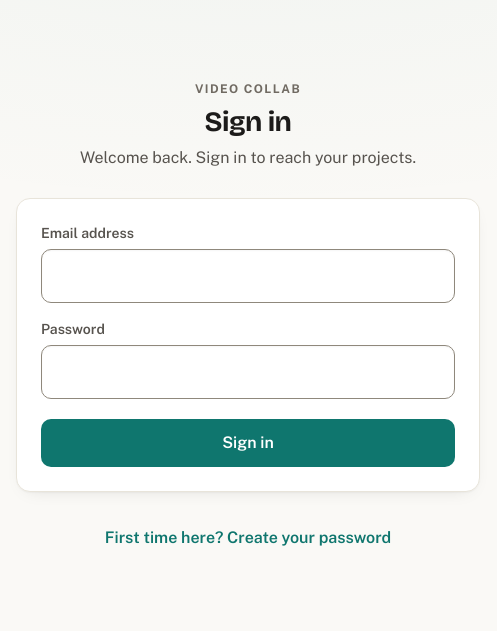
Scenario: SignInPage › signup error some_unknown_code shows its message
Click the button "First time here? Create your password".
click(248, 538)  # box [105,516,391,560]
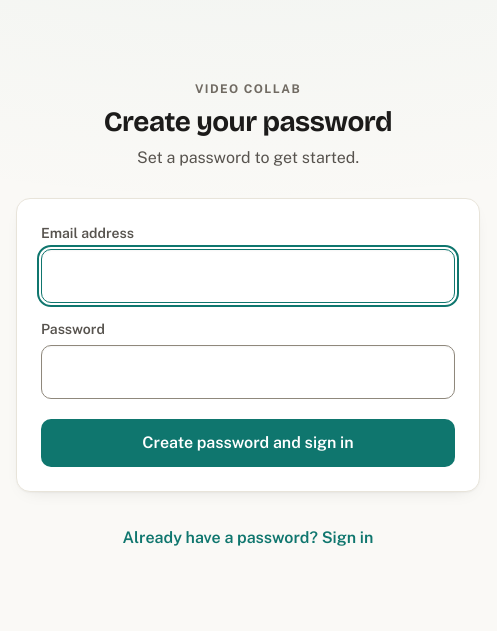
Type "a@b.com" into the field labelled "Email address".
click(248, 276); type("a@b.com")  # box [41,248,455,302]
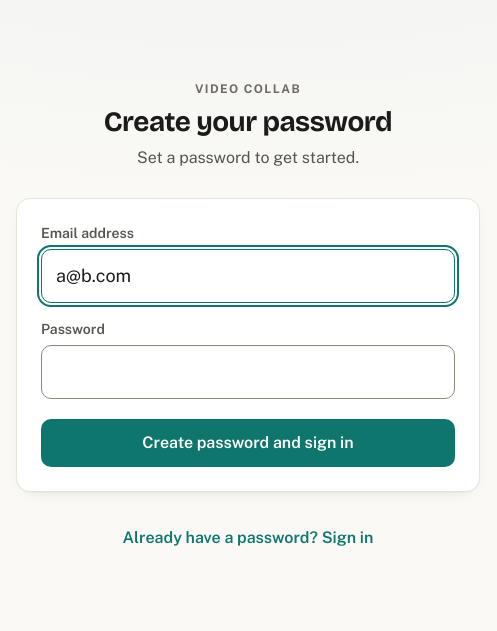
Type "secret123" into the password field labelled "Password".
click(248, 372); type("secret123")  # box [41,344,455,398]
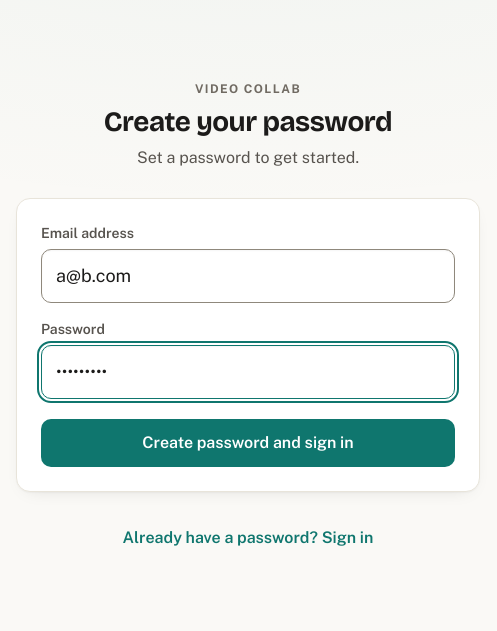
Click the button "Create password and sign in".
click(248, 442)  # box [41,418,455,466]
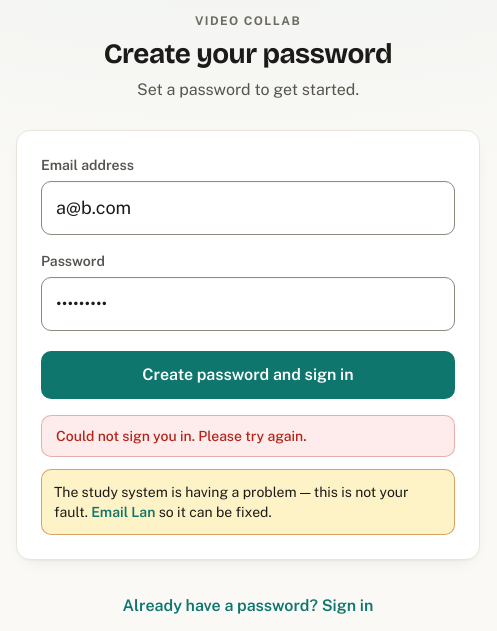
Expected: the text "Could not sign you in. Please try again." is shown, [41,414,455,456]
